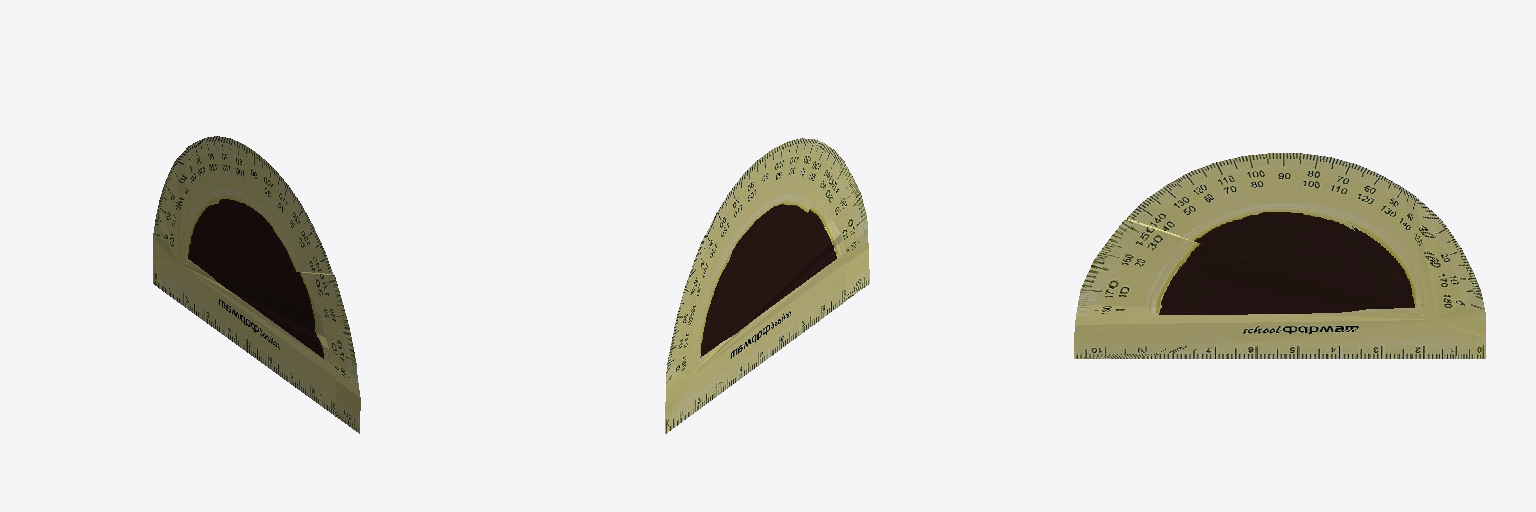
3 renders of one model, left to right at view 1: azimuth 30°, elevation 25°; view 2: azimuth 150°, elevation 25°; view 3: azimuth 270°, elevation 25°, orthographic.
Parts seen in each view (by area): view 1: Плоскость_Плоскость.003; view 2: Плоскость_Плоскость.003; view 3: Плоскость_Плоскость.003.
Boxes of the visible parts, x1=… form: Плоскость_Плоскость.003: x1=153, y1=136, x2=360, y2=433; Плоскость_Плоскость.003: x1=665, y1=138, x2=869, y2=433; Плоскость_Плоскость.003: x1=1074, y1=153, x2=1485, y2=358.
Bounding box in the file's own units: 0.0053 × 0.2465 × 0.446.
Materials: 1 (1 with a texture image).